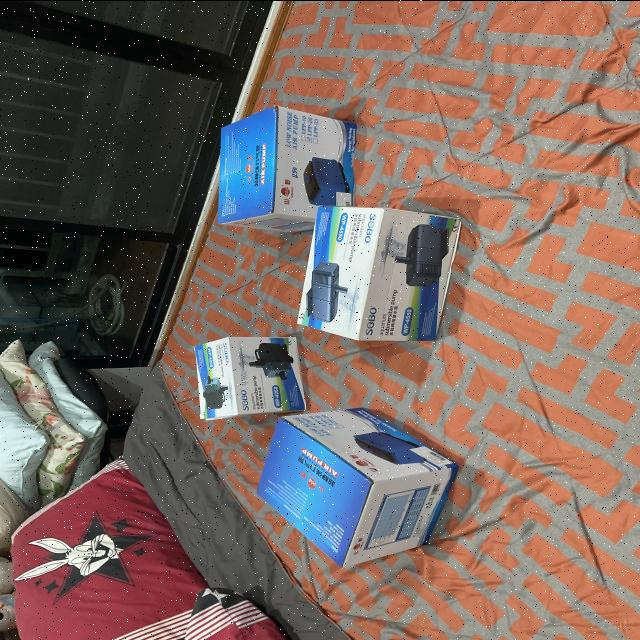SOBO_WP_4200: (289, 198, 479, 346), (190, 322, 314, 424)
YAMANO_LPP_20: (244, 397, 460, 566), (198, 97, 365, 236)
